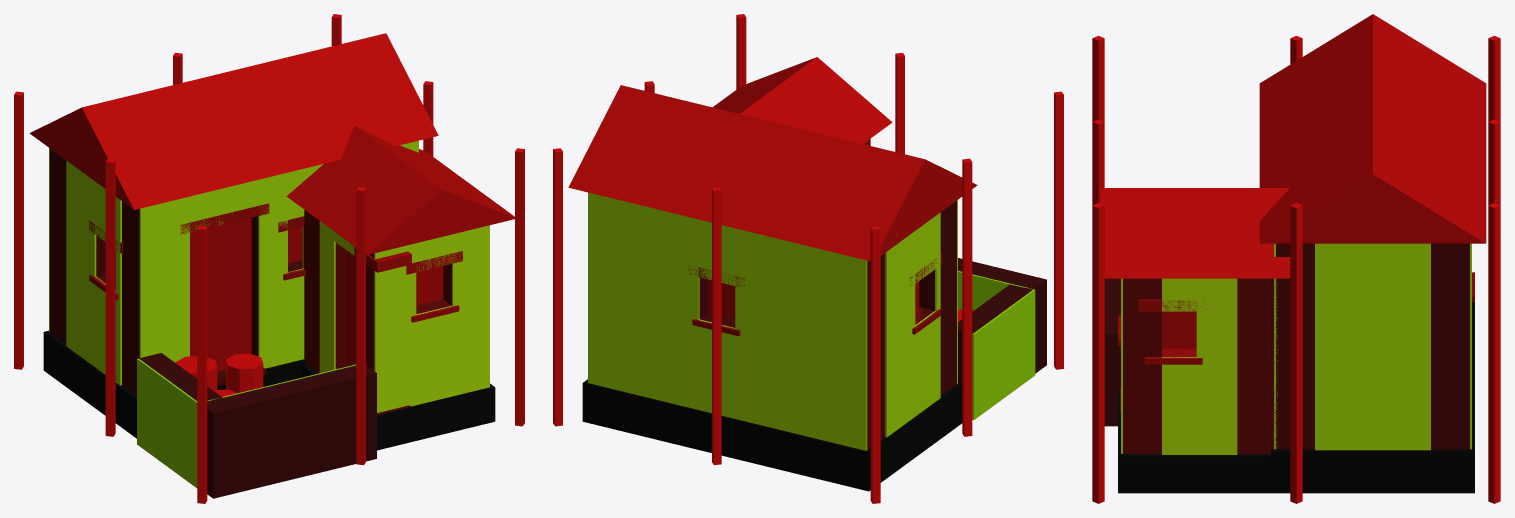
Rendered from common_housing_4_lod1.glb.
3 renders of one model, left to right at view 1: azimuth 30°, elevation 25°; view 2: azimuth 150°, elevation 25°; view 3: azimuth 270°, elevation 25°, orthographic. The views are drawn at different scales.
Parts seen in each view (by area): view 1: common_housing_4_lod1; view 2: common_housing_4_lod1; view 3: common_housing_4_lod1.
Part boxes in pixels (x1,y1,x2,y2): common_housing_4_lod1: (14,14,524,503); common_housing_4_lod1: (553,14,1063,503); common_housing_4_lod1: (1092,14,1500,503).
Bounding box in the file's own units: 2 × 1.75 × 2.
